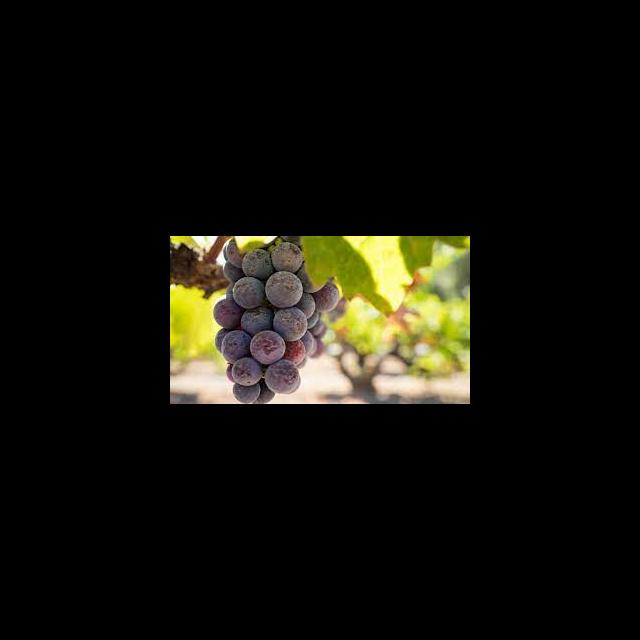grape: (212, 236, 339, 403)
